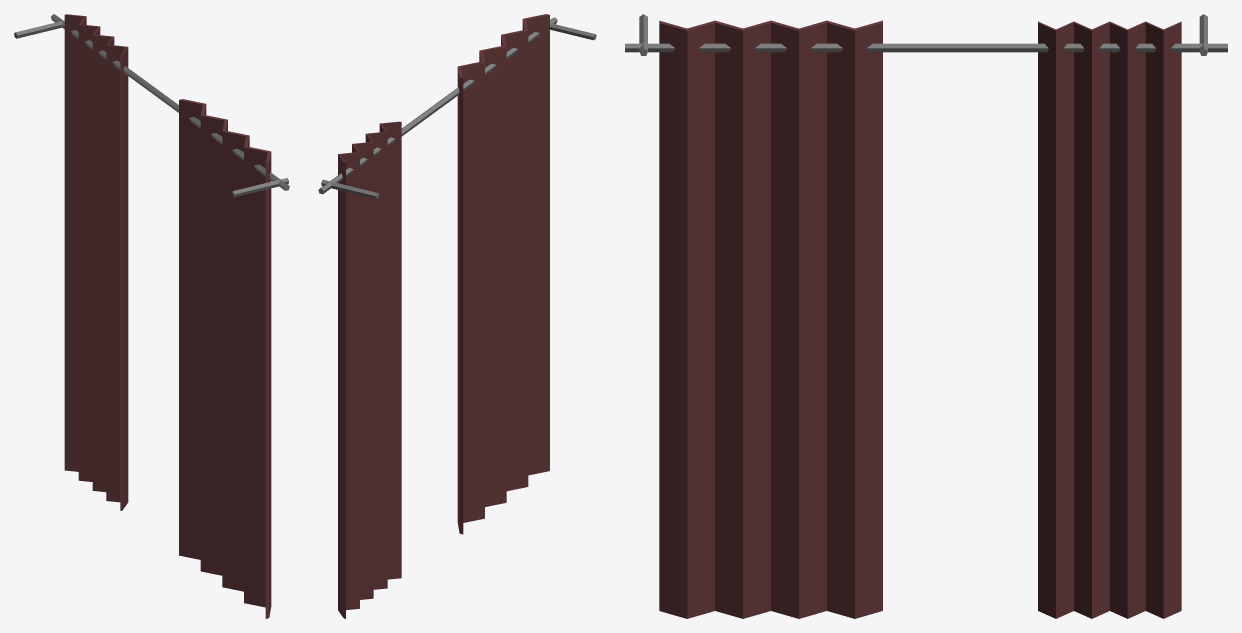
Rendered from curtainRED.fbx.
3 views of the same model, side by side, from view 1: azimuth 30°, elevation 25°; view 2: azimuth 150°, elevation 25°; view 3: azimuth 270°, elevation 25° (orthographic). The views are drawn at different scales.
Visible parts, largest first — view 1: Plane; view 2: Plane; view 3: Plane.
Part boxes in pixels (left/top/right/bottom): Plane: left=14, top=14, right=289, bottom=618; Plane: left=318, top=14, right=596, bottom=618; Plane: left=625, top=14, right=1227, bottom=618.
Bounding box in the file's own units: 39.81 × 313 × 291.
